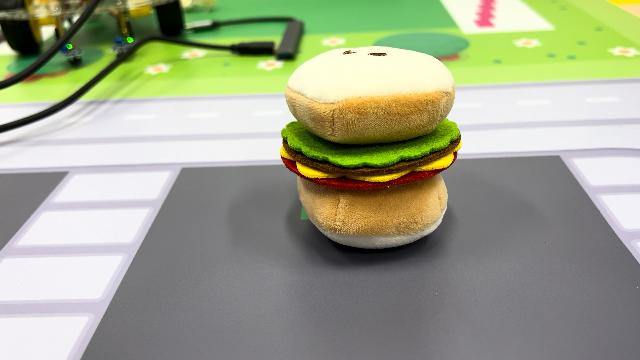sandwich: (278, 43, 464, 251)
